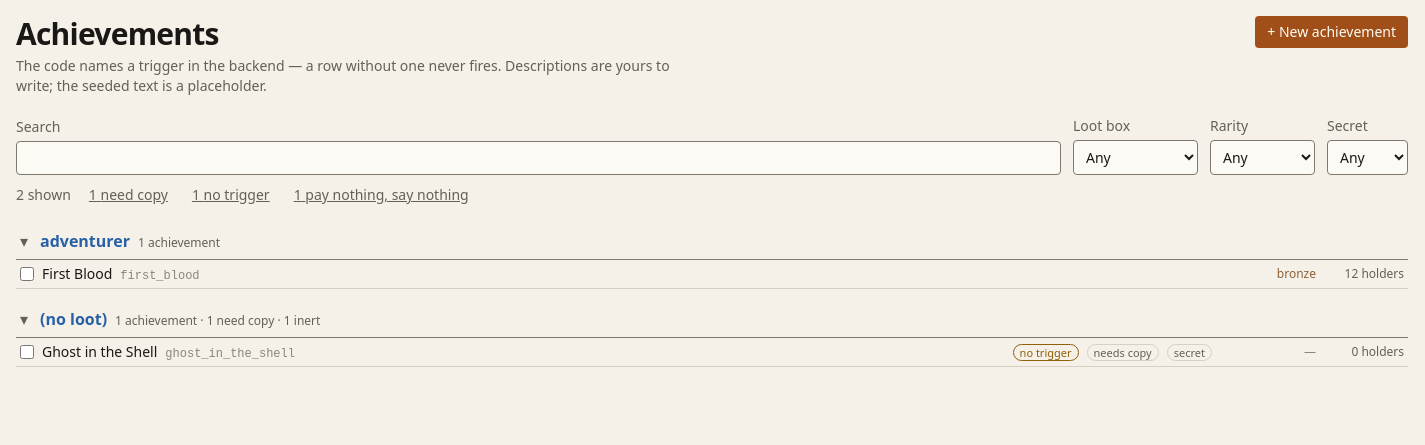
Test: AdminAchievementsPage › reports a refused bulk delete per item
This screenshot has width=1425, height=445.
Click the checkbox named "Select First Blood". click: click(27, 274)
box: [20,267,34,281]
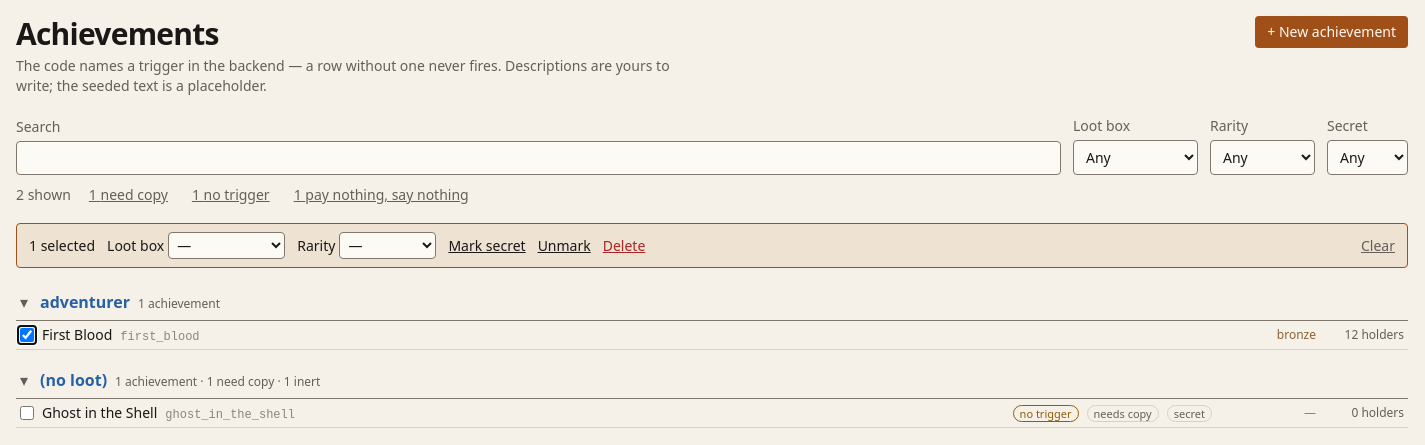
Click the checkbox named "Select Ghost in the Shell". click: click(27, 413)
box: [20,406,34,420]
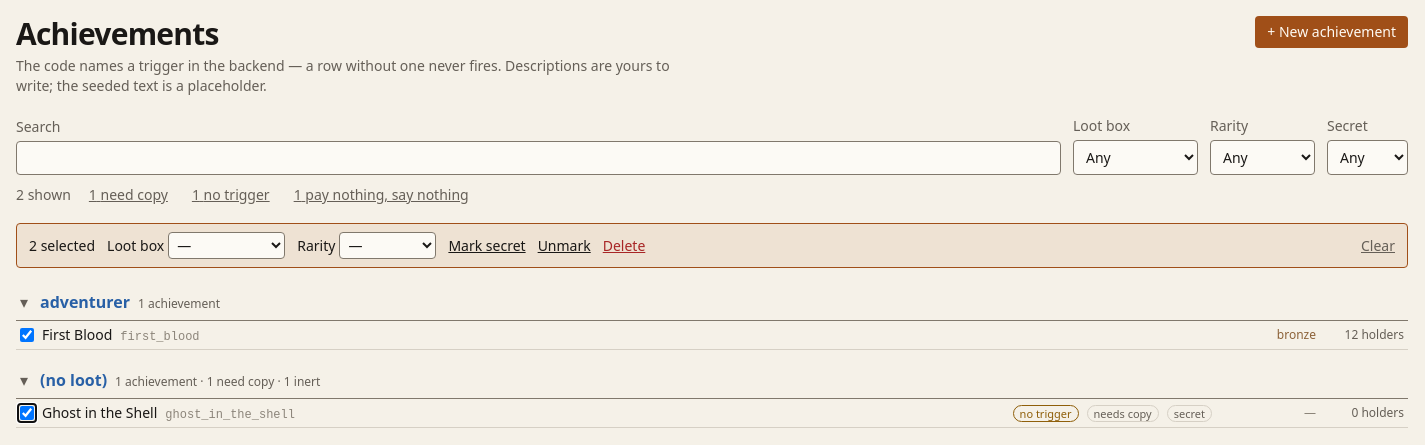
Click the button "Delete". click: click(624, 246)
box: [603,236,645,256]
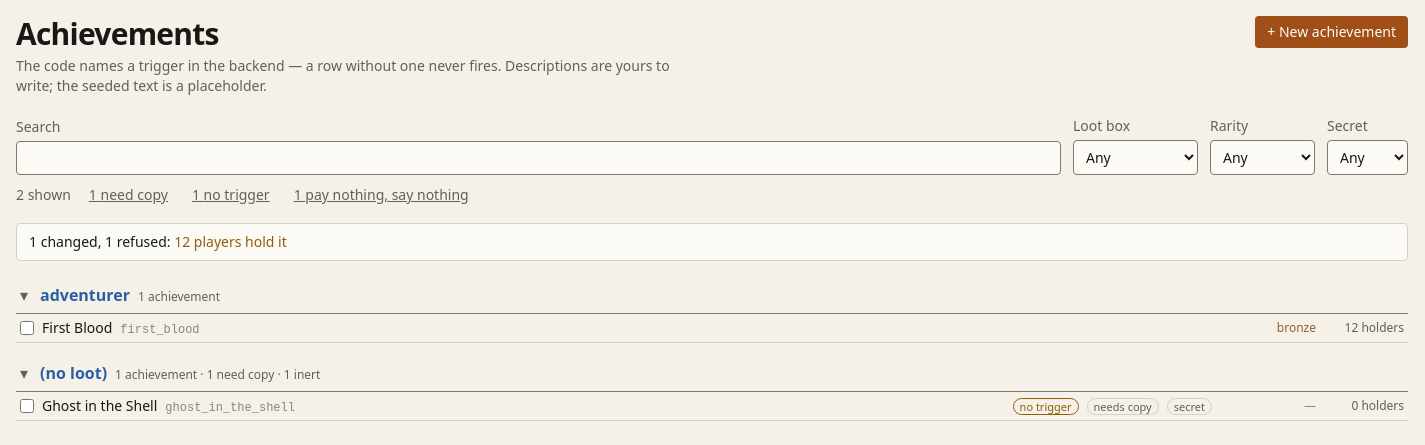
Expected: the text "1 changed, 1 refused: 12 players hold it" is shown, [16,223,1408,261]
Expected: the text "12 players hold it" is shown, [174,232,287,251]
